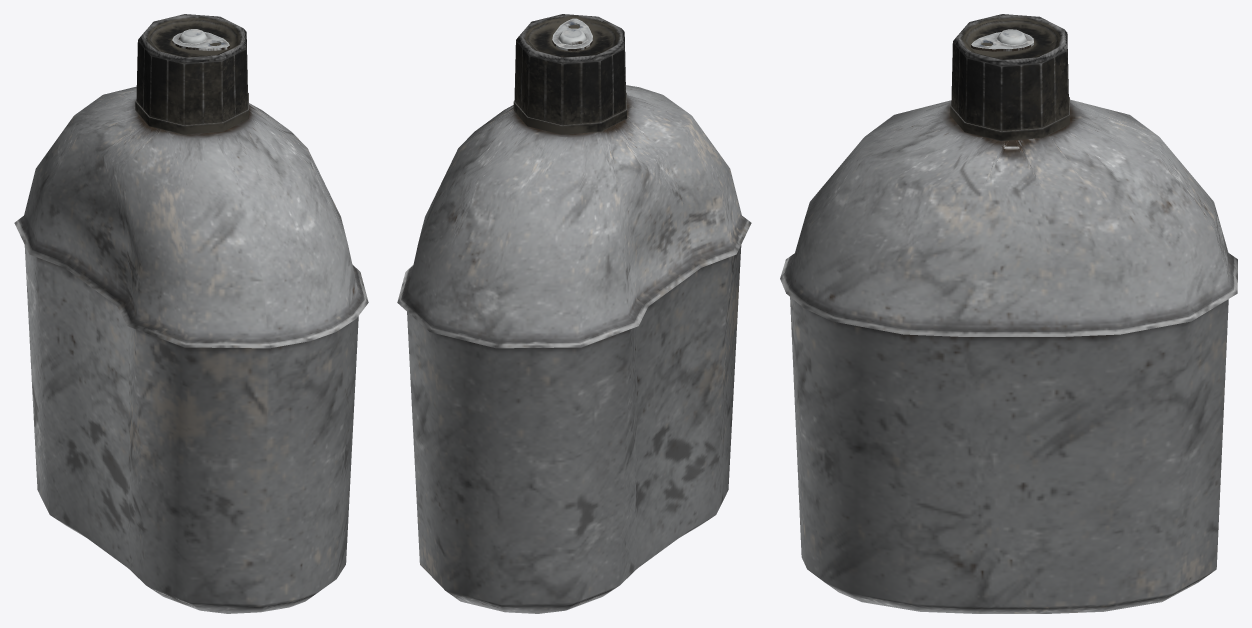
The model's file is canteen.fbx.
3 renders of one model, left to right at view 1: azimuth 30°, elevation 25°; view 2: azimuth 150°, elevation 25°; view 3: azimuth 270°, elevation 25°, orthographic. The views are drawn at different scales.
Visible parts, largest first — view 1: canteen; view 2: canteen; view 3: canteen.
Boxes of the visible parts, x1,y1,x2,y2 form: canteen: (14,14,368,613); canteen: (397,14,751,613); canteen: (780,14,1237,613).
Bounding box in the file's own units: 17.37 × 35.97 × 27.78.
1 material, 1 textured.
